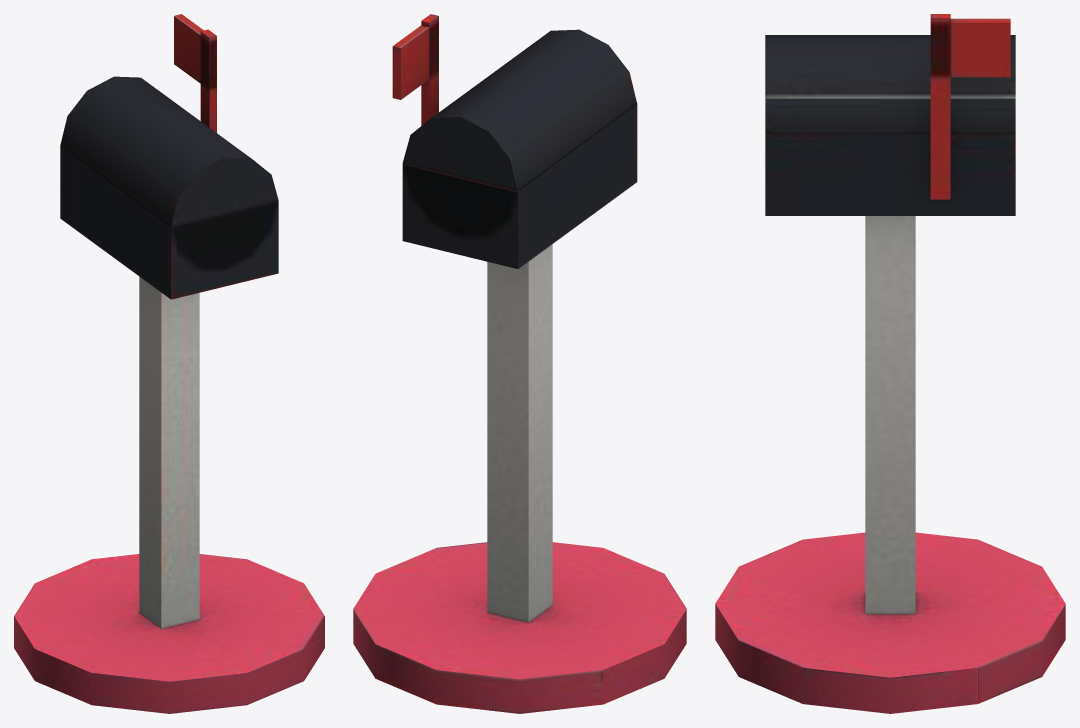
The model's file is buzon_pueblo.glb.
3 views of the same model, side by side, from view 1: azimuth 30°, elevation 25°; view 2: azimuth 150°, elevation 25°; view 3: azimuth 270°, elevation 25° (orthographic). The views are drawn at different scales.
Visible parts, largest first — view 1: buzon_pueblo; view 2: buzon_pueblo; view 3: buzon_pueblo.
Part boxes in pixels (left/top/right/bottom): buzon_pueblo: left=14, top=14, right=324, bottom=713; buzon_pueblo: left=353, top=14, right=686, bottom=713; buzon_pueblo: left=715, top=14, right=1065, bottom=713.
Bounding box in the file's own units: 0.7 × 1.45 × 0.7.
Materials: 1 (1 with a texture image).
